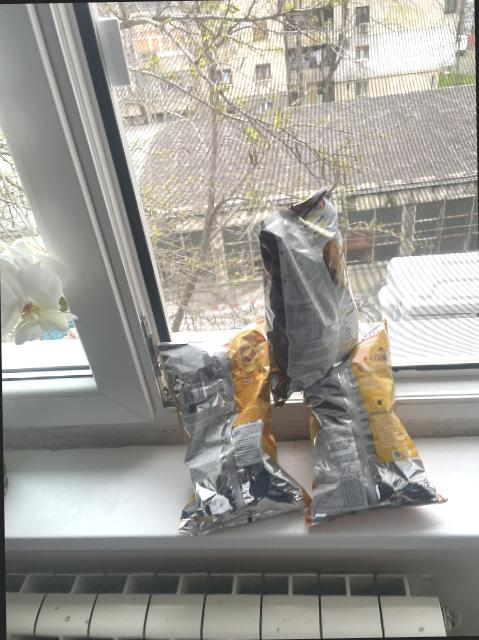Chio Cascaval 125g: (315, 323, 447, 524)
Chio Hula Hoops Cheese 70g: (158, 332, 306, 533)
Lays Beef Grilled Ribs 125g: (252, 188, 357, 408)
